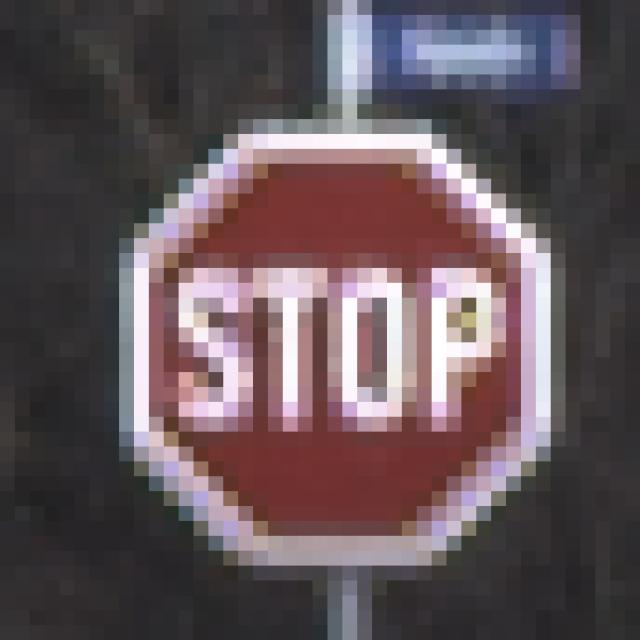STOP: (90, 76, 567, 567)
